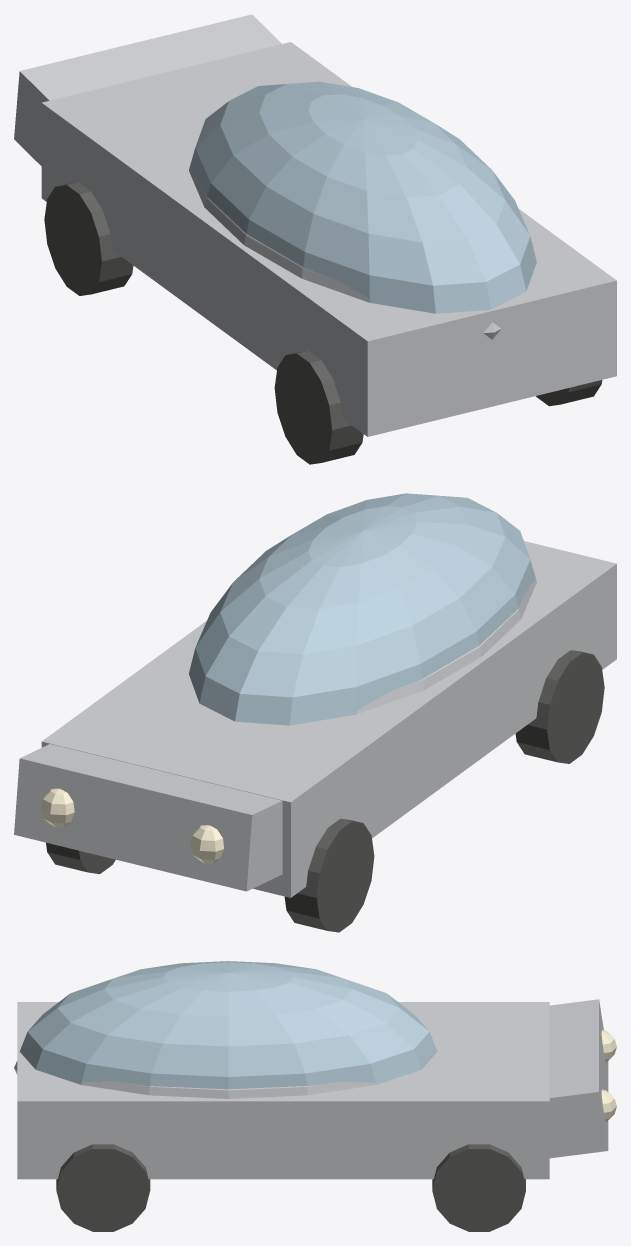
Rendered from citroen.glb.
3 views of the same model, one above another, from view 1: azimuth 30°, elevation 25°; view 2: azimuth 150°, elevation 25°; view 3: azimuth 270°, elevation 25° (orthographic). The views are drawn at different scales.
Parts seen in each view (by area): view 1: citroen; view 2: citroen; view 3: citroen.
Part boxes in pixels (bbox=[...]): citroen: bbox=[14, 14, 616, 464]; citroen: bbox=[14, 493, 616, 932]; citroen: bbox=[14, 961, 616, 1231].
Bounding box in the file's own units: 1.64 × 1.44 × 3.85.
